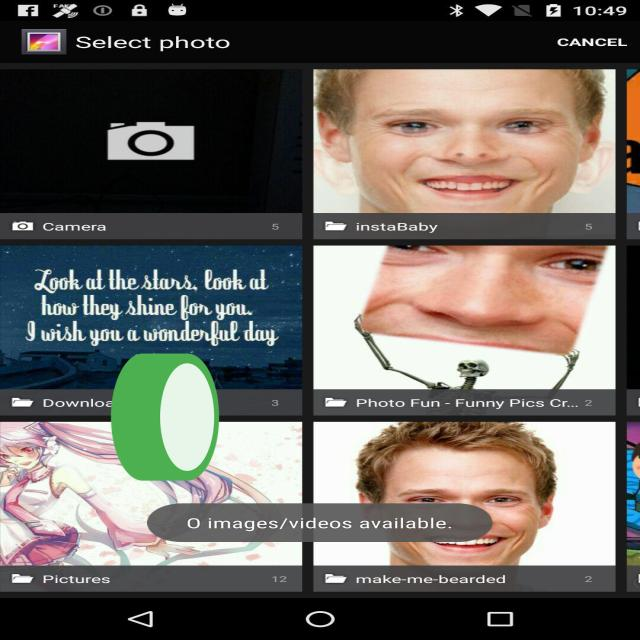social proof: (106, 305, 224, 539)
